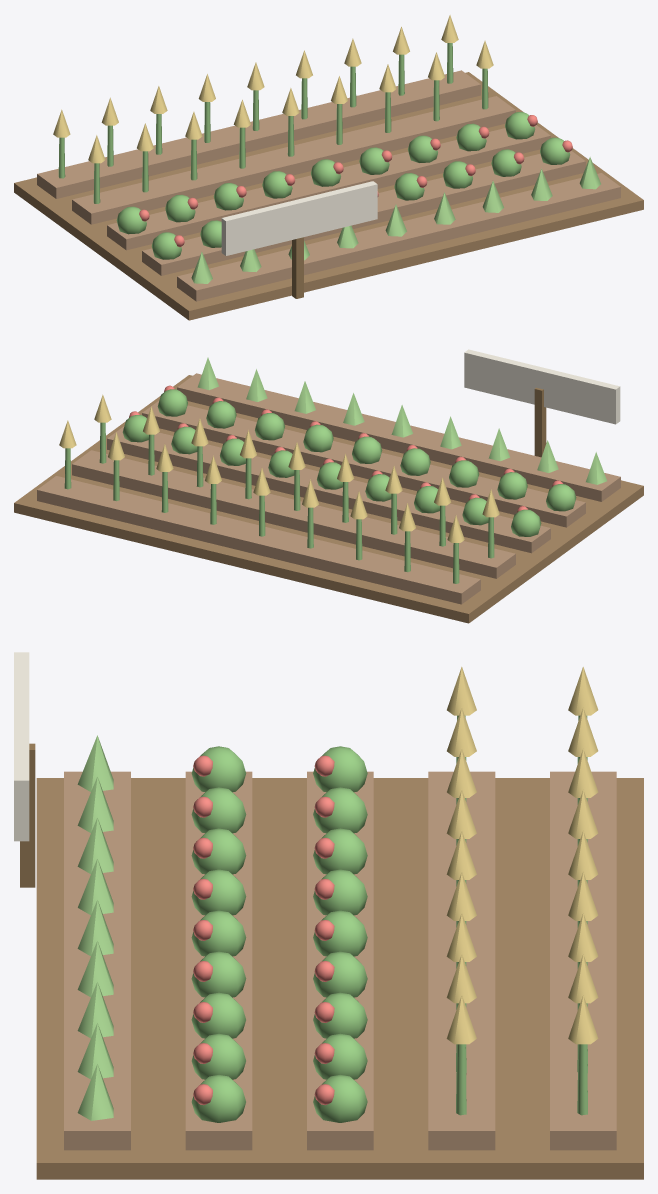
The model's file is ladang.glb.
The picture shows the model from 3 angles, top to bottom: view 1: azimuth 30°, elevation 25°; view 2: azimuth 150°, elevation 25°; view 3: azimuth 270°, elevation 25°; orthographic projection. The views are drawn at different scales.
Parts seen in each view (by area): view 1: ladang; view 2: ladang; view 3: ladang.
Part boxes in pixels (x1,y1,x2,y2): ladang: (14,15,643,320); ladang: (14,349,643,623); ladang: (14,652,643,1179).
Bounding box in the file's own units: 3 × 0.61 × 2.08.
